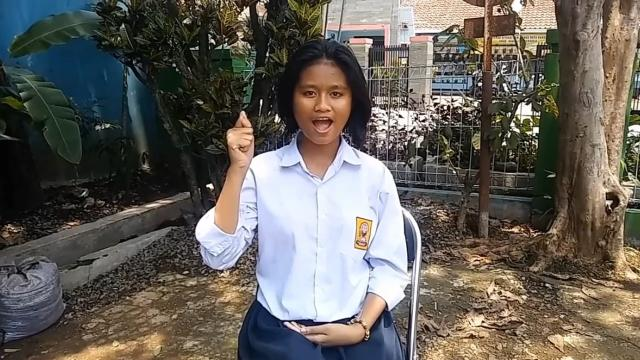A: (222, 106, 266, 172)
